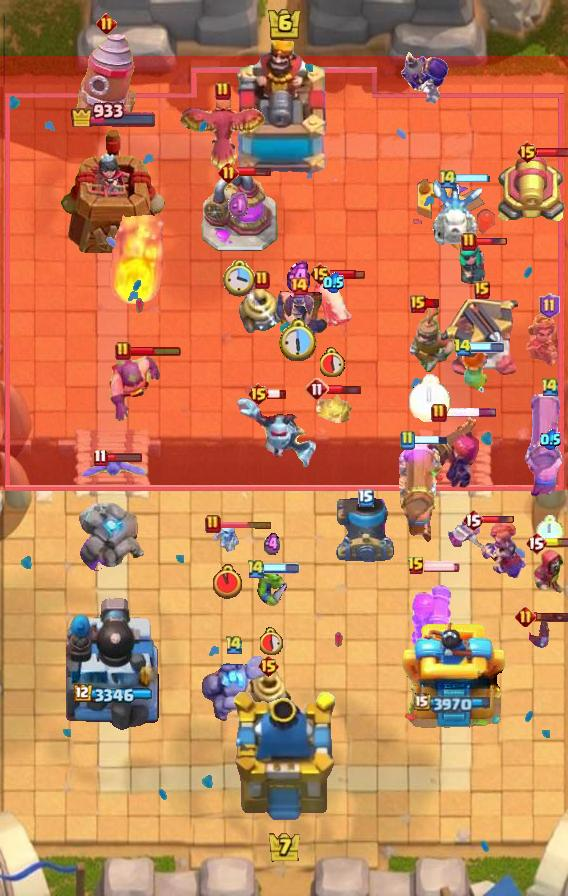bar: (129, 345, 182, 357), (445, 407, 498, 418), (219, 520, 273, 529), (423, 560, 461, 572), (327, 383, 362, 396), (330, 268, 365, 280), (237, 166, 272, 178), (534, 611, 568, 623), (106, 452, 143, 463), (264, 563, 300, 574), (469, 342, 505, 353), (413, 434, 448, 445), (456, 173, 491, 184), (536, 147, 568, 158), (481, 515, 515, 525), (474, 237, 508, 247), (544, 538, 568, 548), (267, 388, 287, 400), (424, 298, 441, 309)
bar-level: (305, 377, 329, 401), (257, 654, 280, 678), (247, 382, 270, 406), (309, 262, 332, 286), (516, 140, 539, 164), (539, 293, 560, 319), (525, 531, 547, 555), (462, 508, 484, 532), (515, 606, 536, 627), (218, 162, 239, 183), (96, 13, 117, 34), (224, 634, 244, 655), (246, 558, 266, 579), (540, 376, 560, 397), (438, 168, 458, 189), (289, 276, 309, 296), (453, 338, 472, 357), (407, 556, 425, 576), (205, 514, 221, 534), (399, 430, 415, 450), (431, 403, 447, 423), (115, 341, 131, 361), (254, 270, 270, 290), (461, 232, 477, 252), (215, 81, 231, 101), (358, 489, 374, 507), (410, 295, 426, 313), (474, 281, 490, 299), (93, 448, 108, 467)
bat: (282, 292, 316, 320), (525, 620, 551, 650)
bat-evolution: (78, 454, 148, 480)
bomber-evolution: (398, 51, 450, 107)
cannoneer-tower: (66, 595, 162, 731)
clock: (409, 374, 451, 422), (279, 318, 319, 362), (223, 260, 256, 298), (213, 564, 242, 599), (536, 515, 564, 547), (320, 347, 346, 377), (260, 627, 284, 655)
elixir: (284, 261, 315, 294), (228, 191, 251, 220), (540, 429, 561, 450), (323, 272, 344, 293), (264, 532, 280, 557)
executioner: (274, 277, 330, 349), (108, 353, 162, 423)
firecracker-evolution: (422, 416, 480, 490), (407, 571, 455, 651)
goblin: (252, 569, 292, 607)
golemite: (76, 503, 146, 571), (201, 653, 267, 725)
hog: (311, 274, 355, 330)
king-tower: (228, 41, 340, 181), (227, 692, 341, 826)
lava-pup: (314, 391, 356, 427)
little-prince: (525, 313, 568, 369)
mega-minion: (233, 395, 319, 473)
mortar: (336, 498, 396, 562)
queen-tower: (59, 128, 169, 256), (399, 617, 507, 731)
rascal-girl: (458, 245, 498, 289)
royal-recruit: (405, 304, 455, 376)
skeleton: (212, 522, 242, 554)
tower-bar: (70, 99, 158, 127), (74, 684, 155, 705), (414, 693, 493, 713)
valkyrie: (457, 344, 495, 396)
valkyrie-evolution: (447, 516, 528, 581)
wizard: (532, 548, 568, 596)
zappy: (242, 669, 294, 723), (239, 286, 285, 334)
